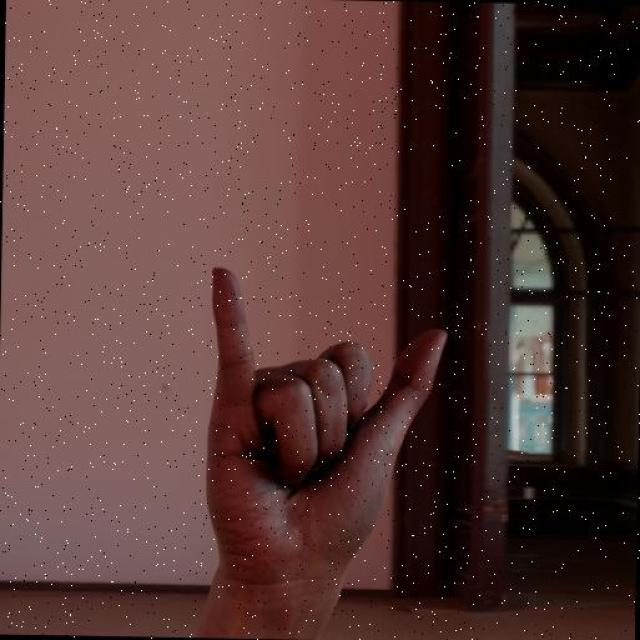Y: (142, 248, 452, 614)
